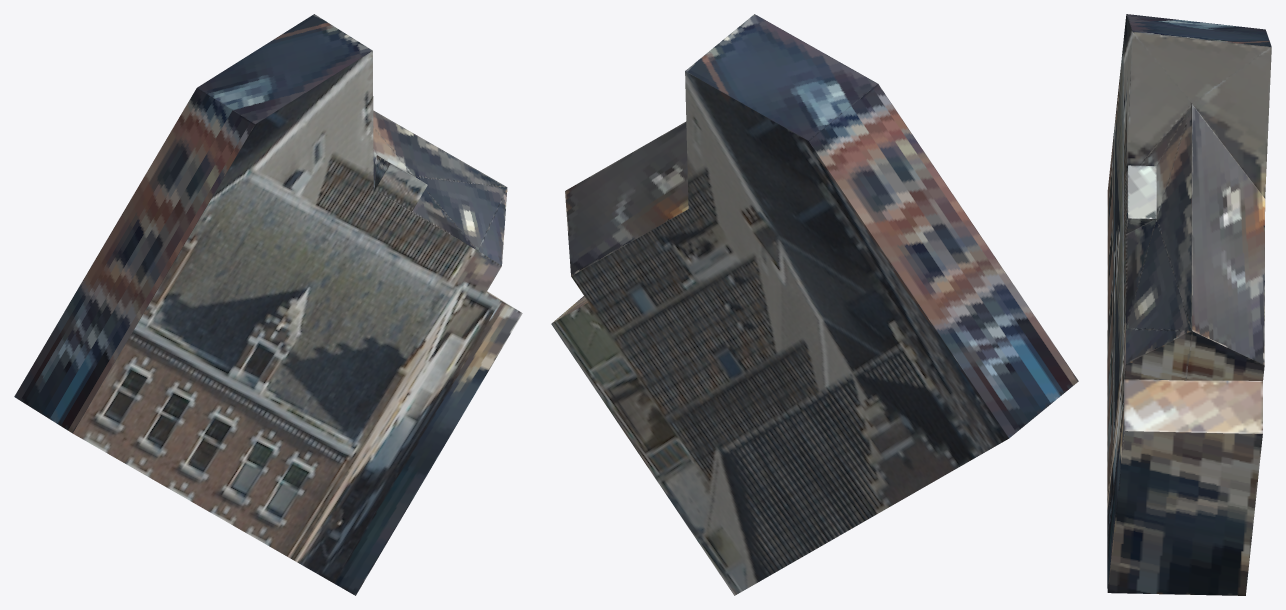
3 views of the same model, side by side, from view 1: azimuth 30°, elevation 25°; view 2: azimuth 150°, elevation 25°; view 3: azimuth 270°, elevation 25° (orthographic). The views are drawn at different scales.
Visible parts, largest first — view 1: BAG_0599100000671729 (×4); view 2: BAG_0599100000671729 (×2); view 3: BAG_0599100000671729 (×4).
Part boxes in pixels (bbox=[...]): BAG_0599100000671729 (×4): bbox=[14, 14, 522, 595]; BAG_0599100000671729 (×2): bbox=[551, 14, 1078, 595]; BAG_0599100000671729 (×4): bbox=[1107, 14, 1271, 595].
Size of the model in its own units: 21.11 by 22.76 by 5.84.
Materials: 5 (5 with a texture image).
